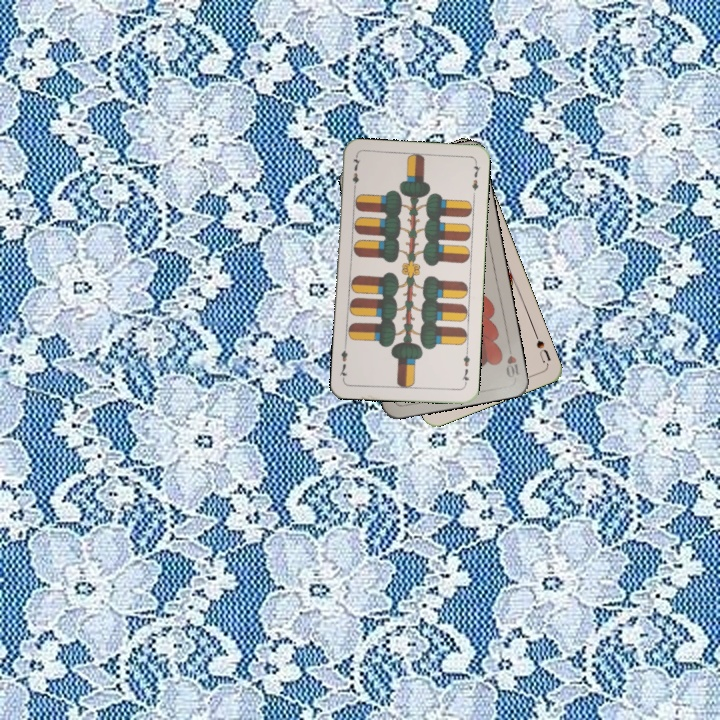E7: (458, 347, 472, 388), (349, 153, 363, 194)
H10: (502, 340, 522, 380)
SU: (530, 328, 553, 367)
